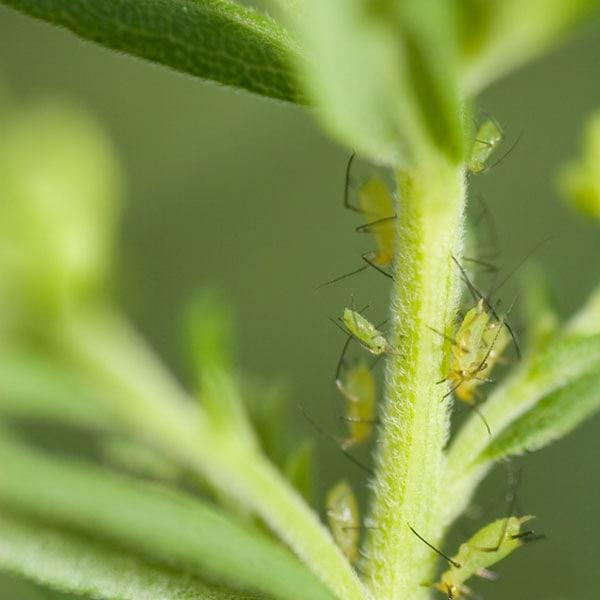Insects: (397, 451, 548, 600), (419, 245, 522, 440), (319, 139, 421, 298), (303, 346, 393, 488), (308, 460, 383, 575), (459, 102, 529, 212), (326, 294, 403, 390)
